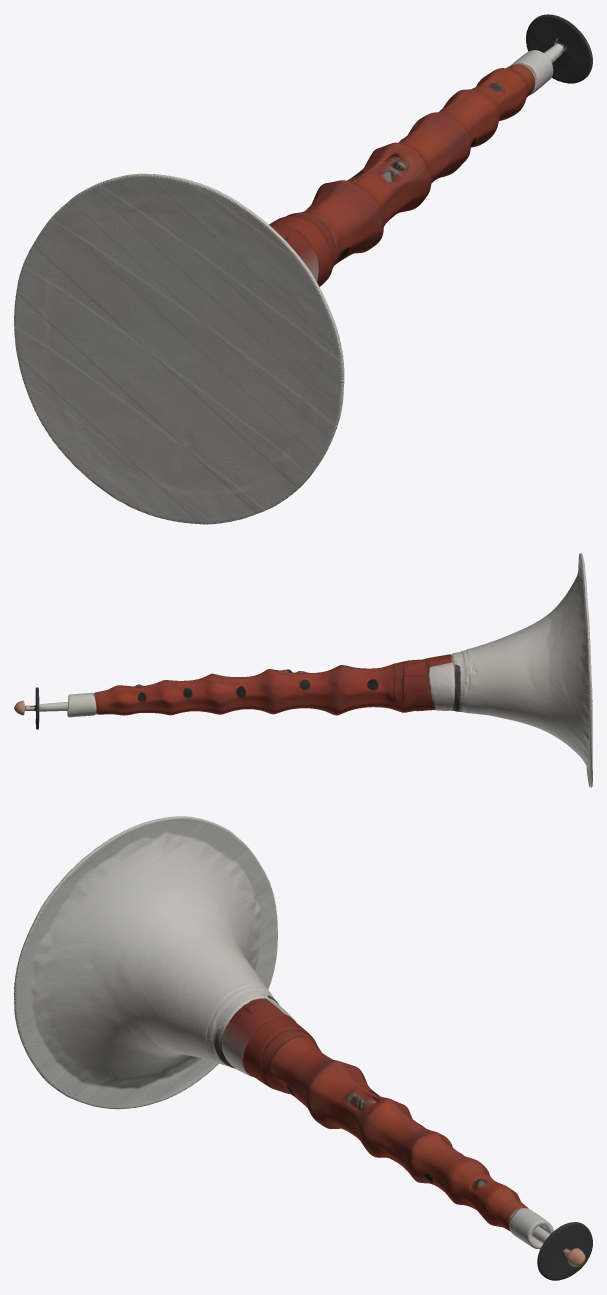
File: suona.glb
3 renders of one model, top to bottom at view 1: azimuth 30°, elevation 25°; view 2: azimuth 150°, elevation 25°; view 3: azimuth 270°, elevation 25°, orthographic. The views are drawn at different scales.
Visible parts, largest first — view 1: tripo_node_c1f63cc0-629b-42b7-a532-fbe9b7870b5c; view 2: tripo_node_c1f63cc0-629b-42b7-a532-fbe9b7870b5c; view 3: tripo_node_c1f63cc0-629b-42b7-a532-fbe9b7870b5c.
Part boxes in pixels (x1,y1,x2,y2): tripo_node_c1f63cc0-629b-42b7-a532-fbe9b7870b5c: (14,14,592,524); tripo_node_c1f63cc0-629b-42b7-a532-fbe9b7870b5c: (14,553,592,787); tripo_node_c1f63cc0-629b-42b7-a532-fbe9b7870b5c: (14,816,592,1280).
Bounding box in the file's own units: 103 × 44.91 × 82.14.
1 material, 1 textured.
